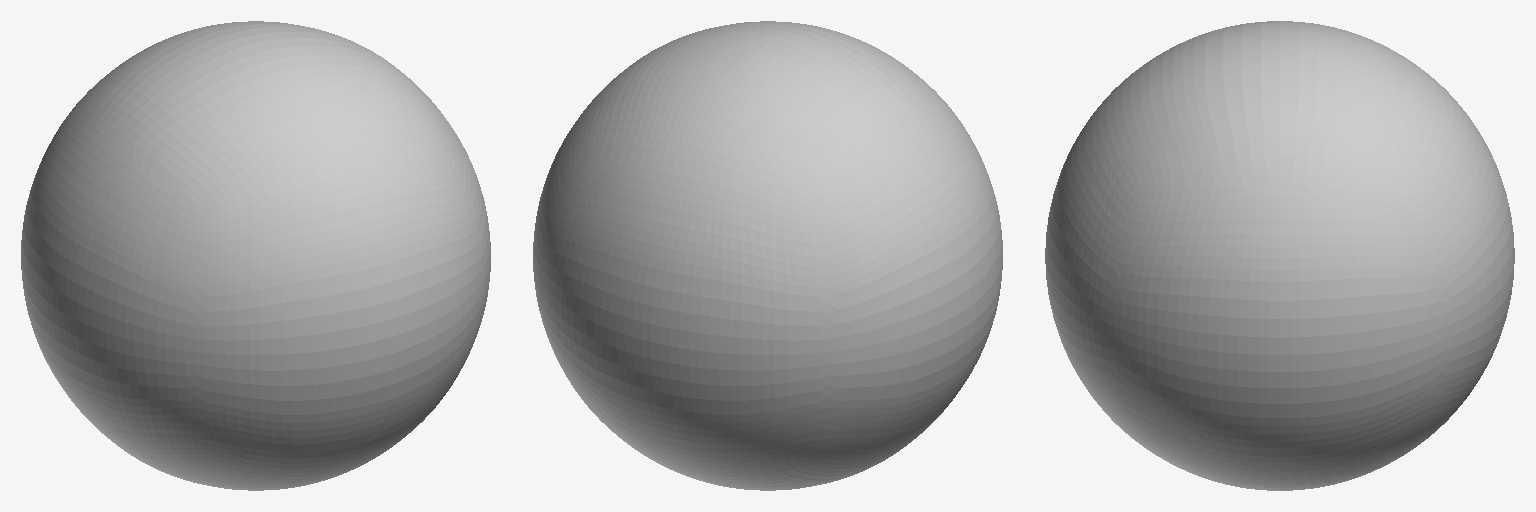
File: PALLA.obj
3 renders of one model, left to right at view 1: azimuth 30°, elevation 25°; view 2: azimuth 150°, elevation 25°; view 3: azimuth 270°, elevation 25°, orthographic.
Parts seen in each view (by area): view 1: Body1; view 2: Body1; view 3: Body1.
Part boxes in pixels (left/top/right/bottom): Body1: left=21, top=21, right=490, bottom=490; Body1: left=533, top=21, right=1002, bottom=490; Body1: left=1045, top=21, right=1514, bottom=490.
Bounding box in the file's own units: 3.5 × 3.5 × 3.5.